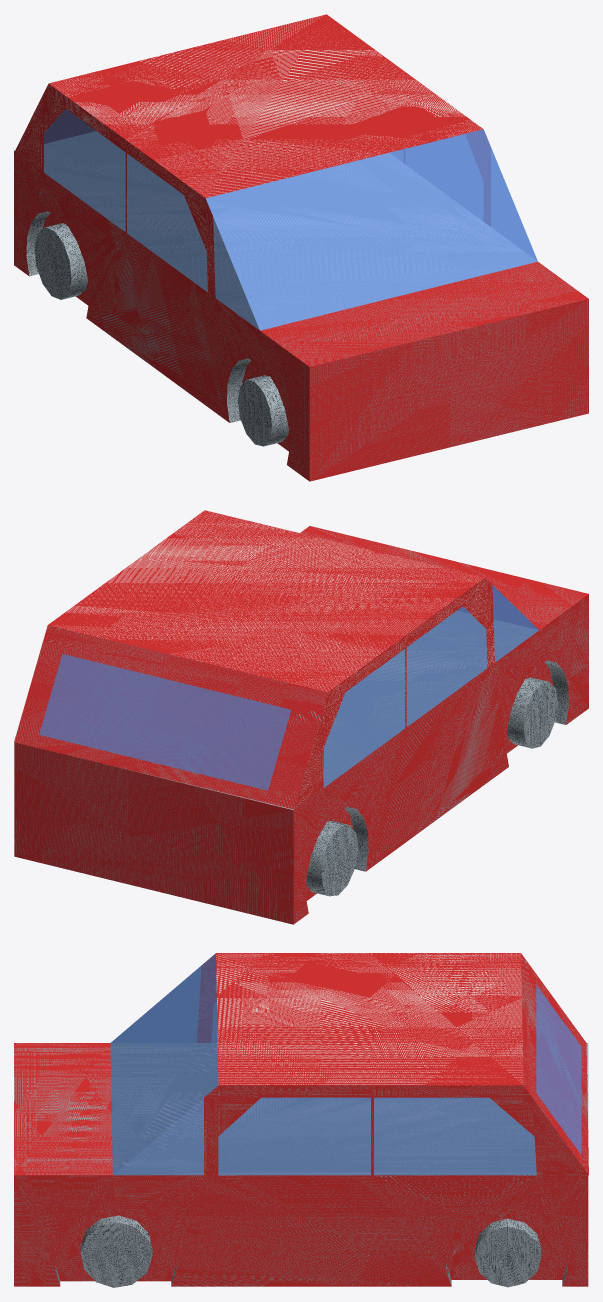
File: car_red.fbx
3 views of the same model, one above another, from view 1: azimuth 30°, elevation 25°; view 2: azimuth 150°, elevation 25°; view 3: azimuth 270°, elevation 25° (orthographic). The views are drawn at different scales.
Parts seen in each view (by area): view 1: Model; view 2: Model; view 3: Model.
Boxes of the visible parts, x1,y1,x2,y2 form: Model: (14,14,588,481); Model: (14,510,588,924); Model: (14,953,588,1287).
Size of the model in its own units: 211 by 146 by 378.
